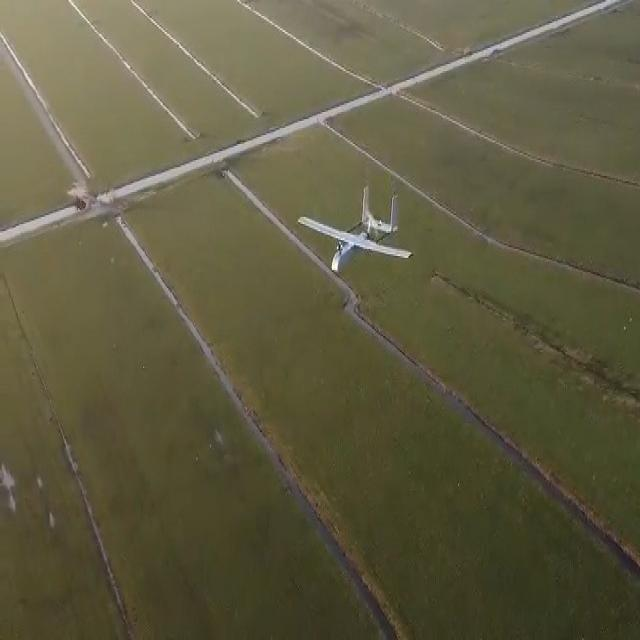iha: (333, 216, 383, 248)
